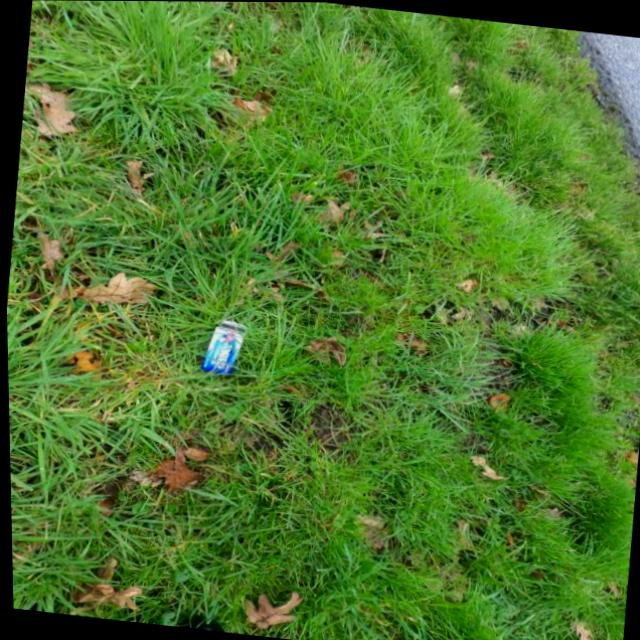Plastic: (196, 314, 251, 377)
